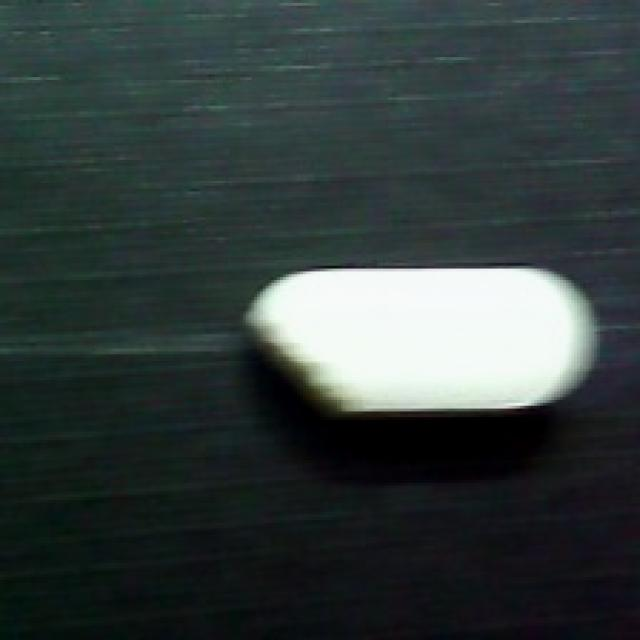defected: (234, 257, 603, 426)
